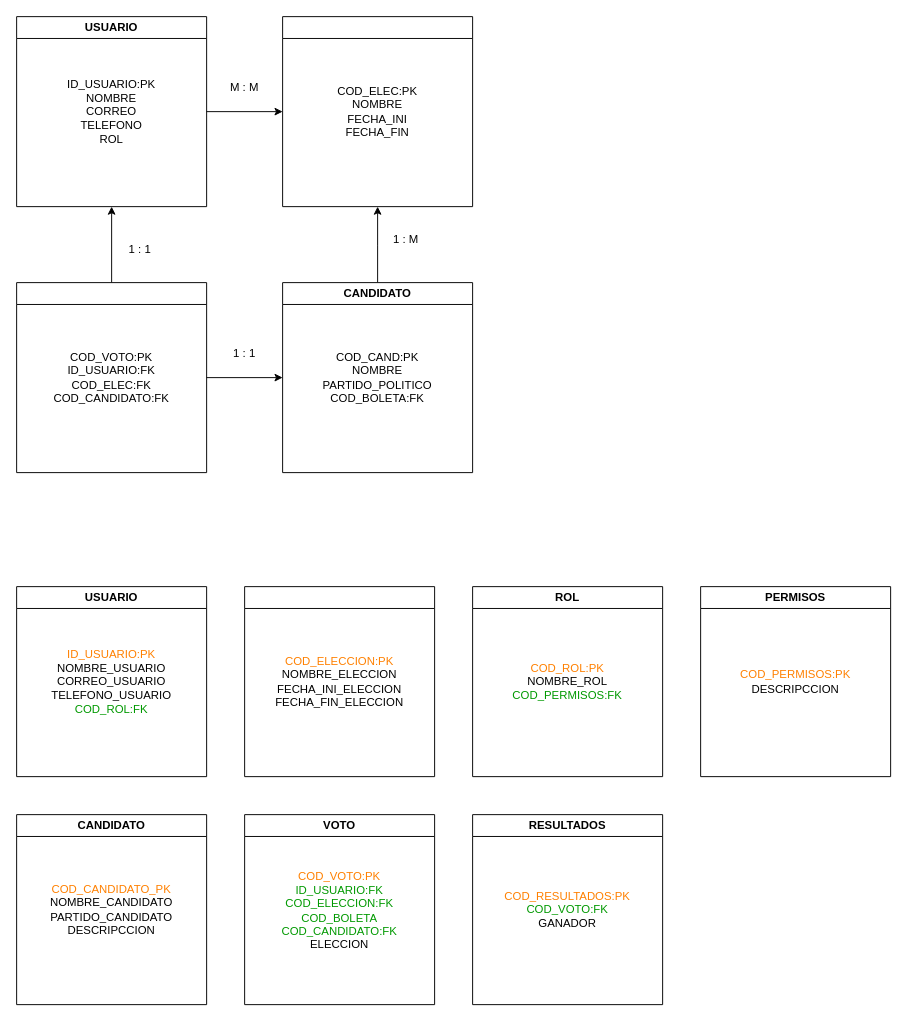
Some shapes in this 907 by 1021 pixel diagram are drawn without their labels. The shapes that lost their labels are listed below. From the top down, each one's box as (x1, y1, x2, y2) in pixels, then its label:
(282, 16, 473, 207): ELECCIONES
(16, 282, 207, 473): VOTOS
(244, 586, 435, 777): ELECCCION
